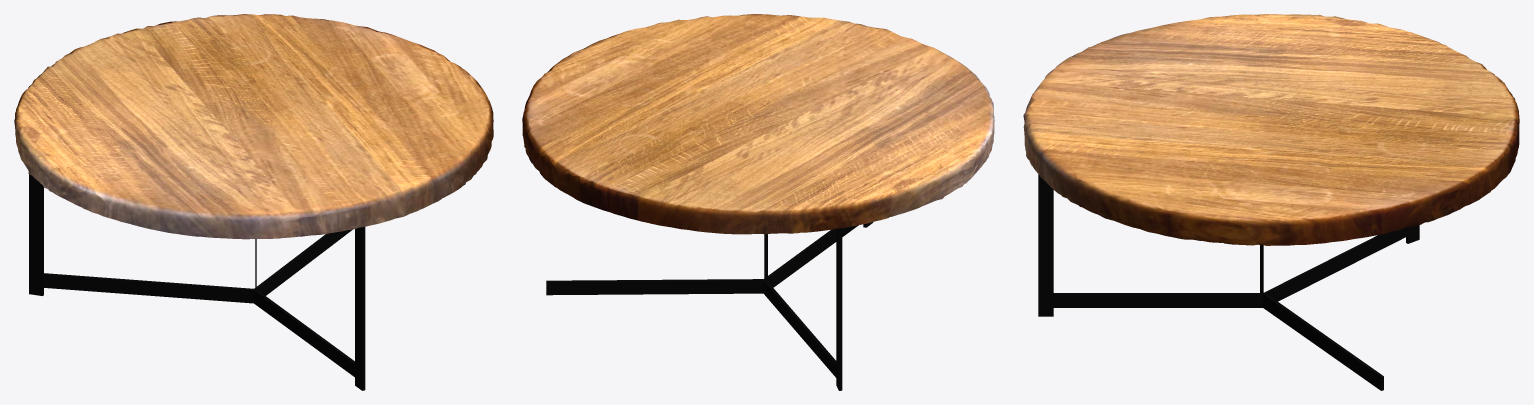
Rendered from mesa.glb.
3 views of the same model, side by side, from view 1: azimuth 30°, elevation 25°; view 2: azimuth 150°, elevation 25°; view 3: azimuth 270°, elevation 25° (orthographic). The views are drawn at different scales.
Visible parts, largest first — view 1: unnamed 2, Würfel 6, Würfel, Würfel 3, Würfel 5, Würfel 7; view 2: unnamed 2, Würfel 7, Würfel 6, Würfel 5, Würfel 3; view 3: unnamed 2, Würfel 5, Würfel 6, Würfel, Würfel 7.
Boxes of the visible parts, x1,y1,x2,y2 form: unnamed 2: [14, 14, 493, 239]; Würfel 6: [37, 273, 254, 303]; Würfel: [355, 227, 365, 390]; Würfel 3: [29, 174, 43, 295]; Würfel 5: [254, 290, 354, 376]; Würfel 7: [254, 229, 352, 295]; unnamed 2: [522, 14, 994, 234]; Würfel 7: [546, 279, 764, 295]; Würfel 6: [763, 279, 836, 378]; Würfel 5: [765, 225, 858, 287]; Würfel 3: [836, 228, 842, 390]; unnamed 2: [1023, 14, 1519, 245]; Würfel 5: [1046, 293, 1263, 307]; Würfel 6: [1263, 226, 1412, 301]; Würfel: [1038, 174, 1053, 316]; Würfel 7: [1263, 293, 1383, 390].
Bounding box in the file's own units: 1.63 × 0.7285 × 1.62.
2 materials, 1 textured.
